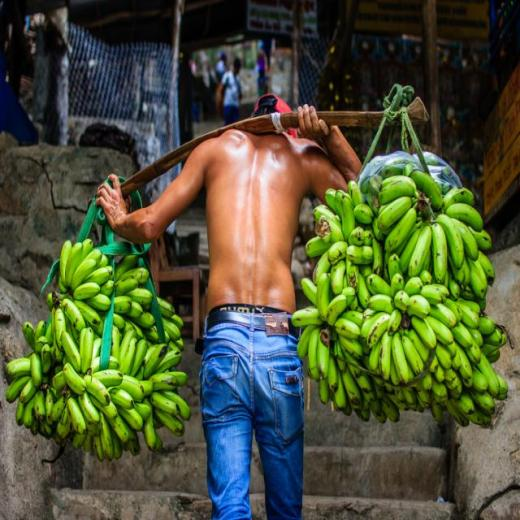Banana: (292, 163, 508, 432), (7, 237, 190, 460), (64, 241, 83, 285)
